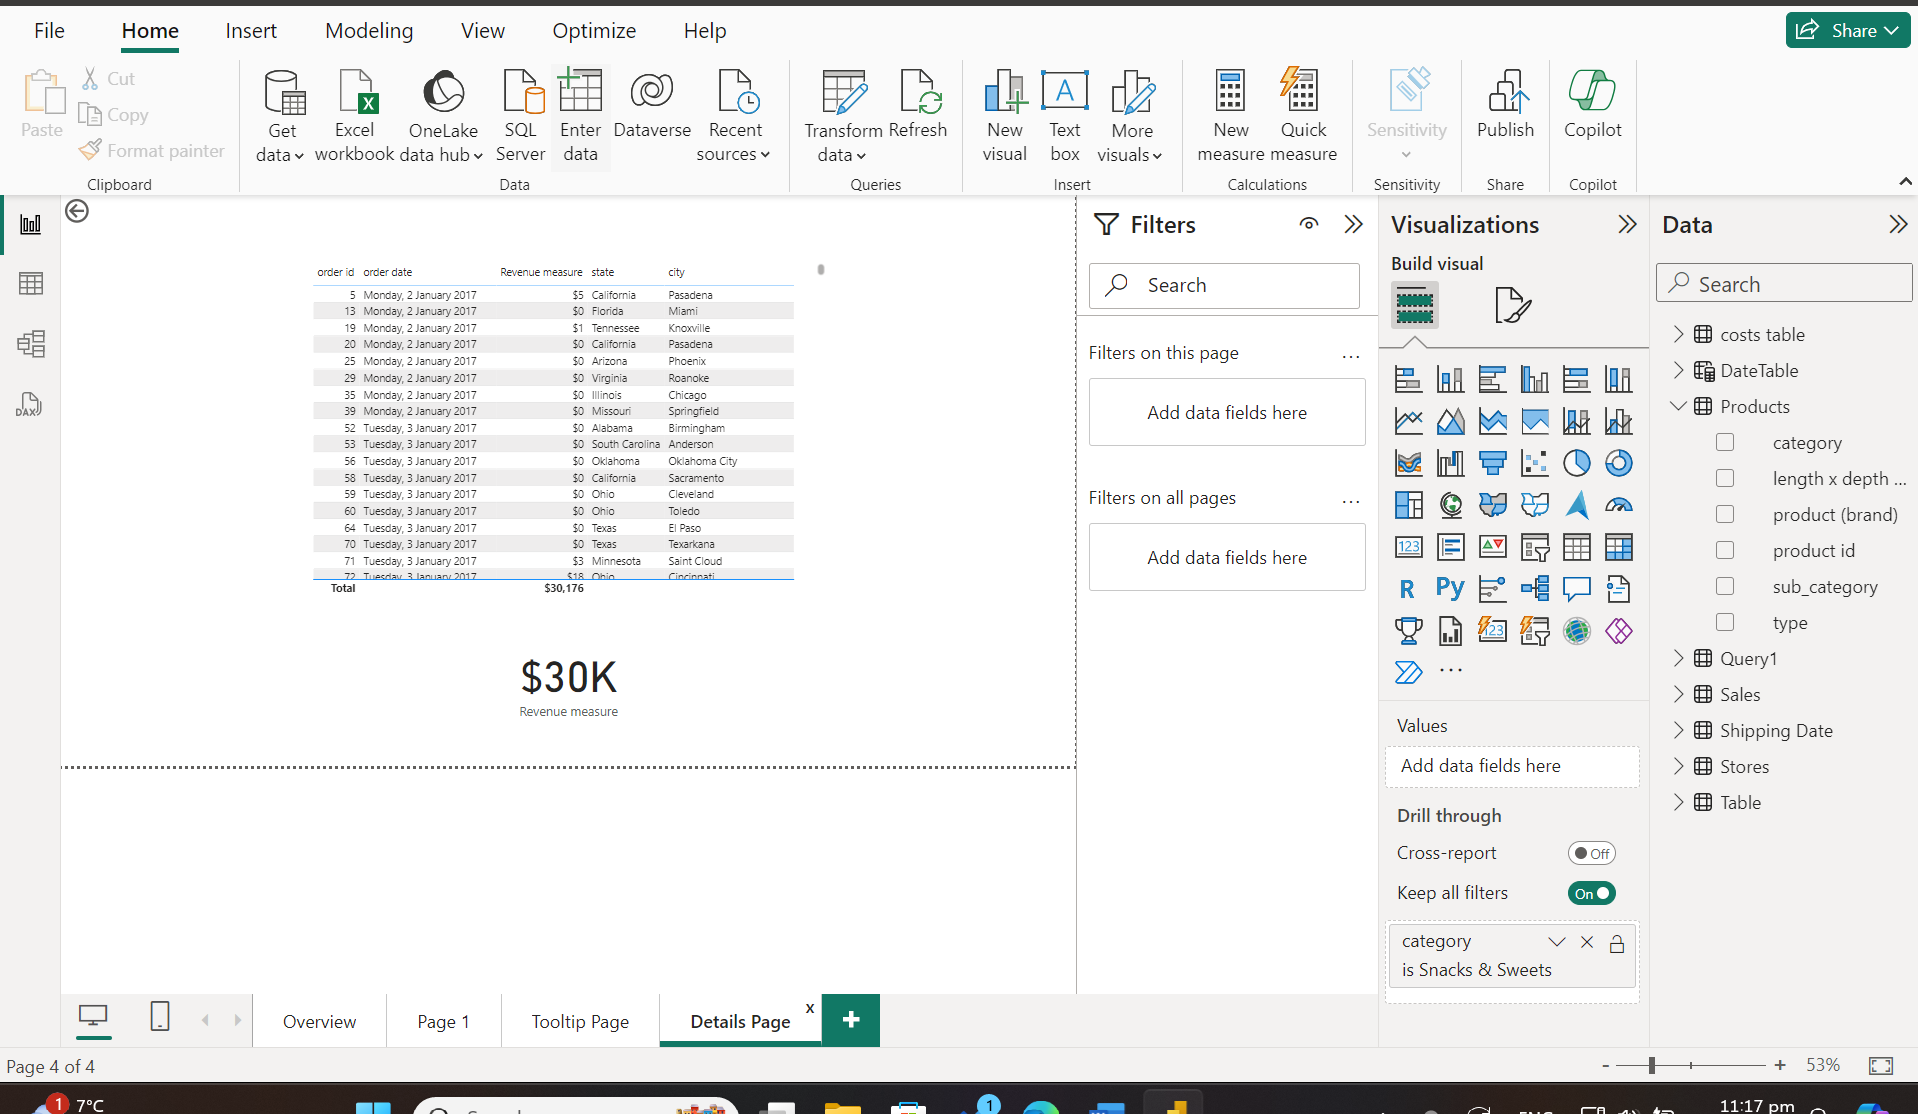

Layout of this report page (visuals, bound fields, positions):
{"tool":"powerbi","page":{"name":"Details Page","canvas":[1280,720],"ordinal":4},"visuals":[{"type":"tableEx","fields":{"Values":["Sales.order id","Sales.order date","Sales.Revenue measure","Stores.state","Stores.city"]},"box":[312.5,81.8,656.1,429.3],"z":0},{"type":"card","fields":{"Values":["Sales.Revenue measure"]},"box":[490.6,518.8,299.8,186.9],"z":1000},{"type":"actionButton","box":[0,0,100,40],"z":2000}]}

Visuals, with their boxes on the page's 1280x720 design canvas (x1, y1, x2, y2). These are canvas units, not pixel positions in the 1918x1114 screenshot, which may show the page scaled, cropped or inside an application window:
tableEx - Sales.order id x Sales.order date: bbox=[312, 82, 969, 511]
card - Sales.Revenue measure: bbox=[491, 519, 790, 706]
actionButton: bbox=[0, 0, 100, 40]
